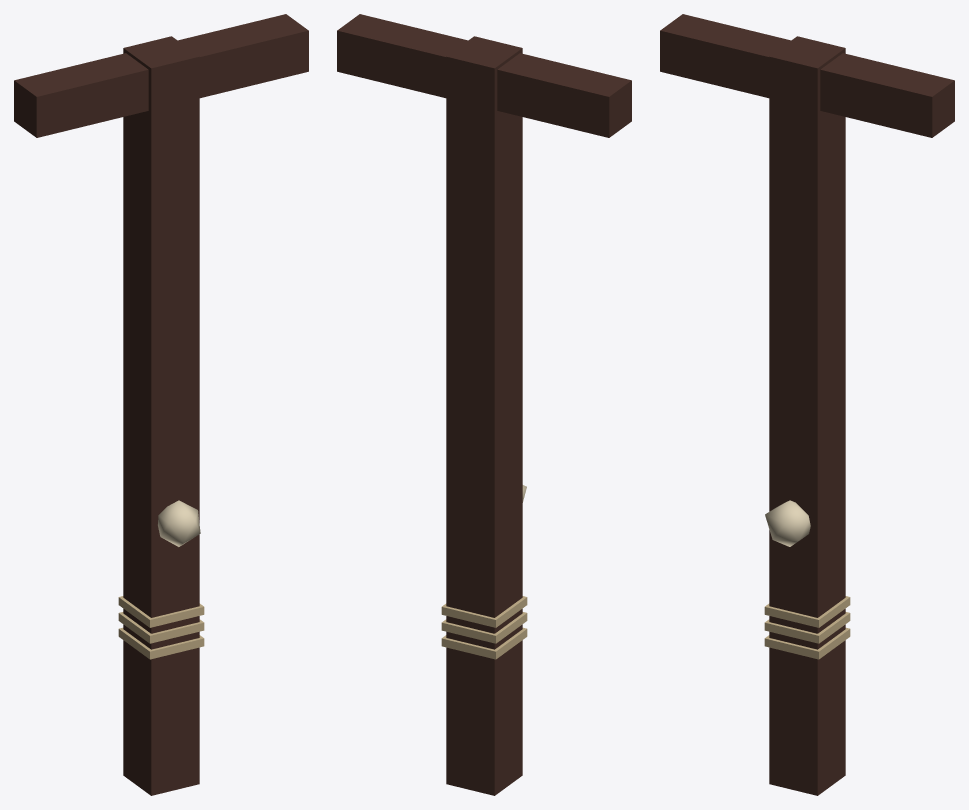
Rendered from warren_post.glb.
3 views of the same model, side by side, from view 1: azimuth 30°, elevation 25°; view 2: azimuth 150°, elevation 25°; view 3: azimuth 330°, elevation 25° (orthographic).
Visible parts, largest first — view 1: post; view 2: post; view 3: post.
Part boxes in pixels (x1,y1,x2,y2): post: (14,14,308,795); post: (337,14,631,795); post: (660,14,954,795).
Size of the model in its own units: 1.8 by 4.6 by 0.5078.
